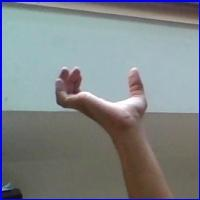B: (49, 59, 155, 127)
